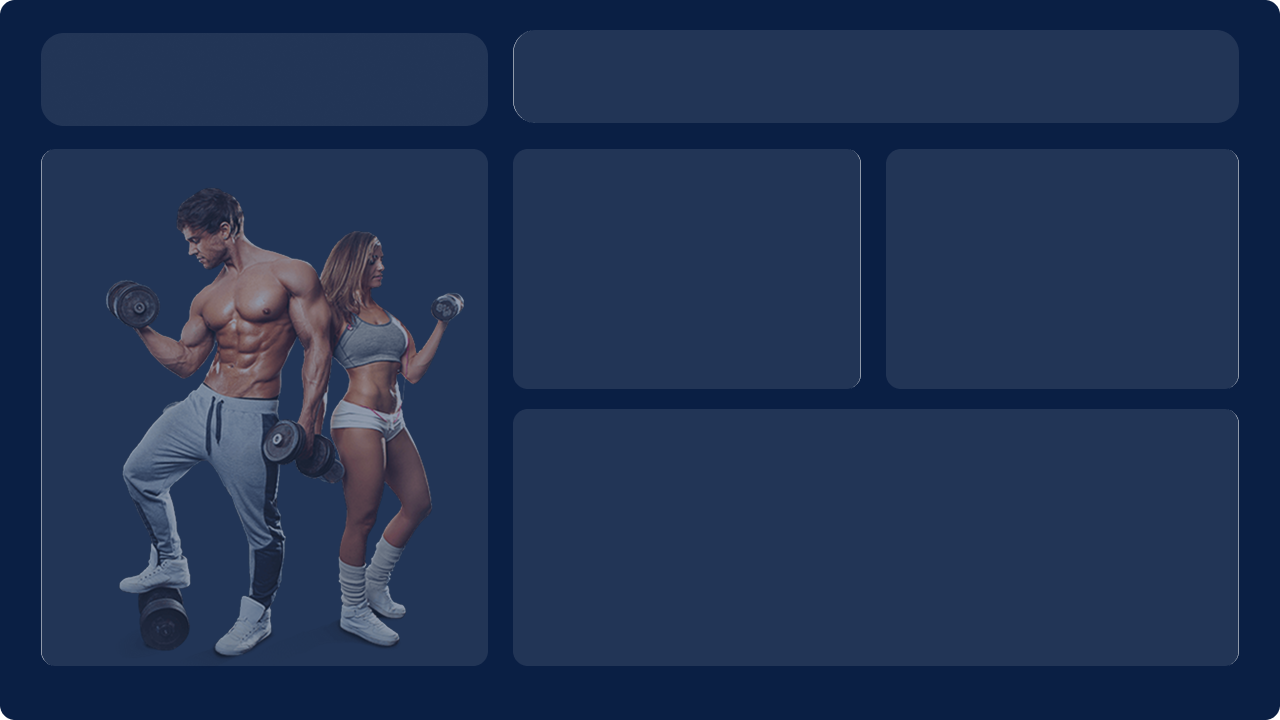

Layout of this report page (visuals, bound fields, positions):
{"tool":"powerbi","page":{"name":"Members","canvas":[1280,720],"ordinal":3},"visuals":[{"type":"shape","box":[51.7,40,41.7,38.3],"z":0},{"type":"shape","box":[90,40,93.3,38.3],"z":1000},{"type":"cardVisual","fields":{"Data":["_Measures.Members_Count"]},"box":[35.9,546.5,139.8,80],"z":2000},{"type":"cardVisual","fields":{"Data":["Count(Users.Trainer Name)"]},"box":[140.5,546.5,139.8,80],"z":3000},{"type":"cardVisual","fields":{"Data":["_Measures.Revenue"]},"box":[245,546.5,139.8,80],"z":4000},{"type":"cardVisual","fields":{"Data":["_Measures.Expenses"]},"box":[349.6,546.1,137.3,79.4],"z":5000},{"type":"shape","box":[53.3,68.3,391.7,38.3],"z":6000},{"type":"image","box":[1158,60,62,28],"z":7000},{"type":"shape","box":[525,38.3,141.7,38.3],"z":8000},{"type":"shape","box":[530,71.7,391.7,38.3],"z":9000},{"type":"pageNavigator","box":[740,48.3,418.3,50],"z":10000},{"type":"tableEx","fields":{"Values":["Users.UserName","Users.Gender","Users.Status","Users.Goal","Users.Membership","_Measures.SVG_BarChart1","Users.Trainer Name"]},"box":[513.3,466.7,720,188.3],"z":11000},{"type":"shape","box":[521.7,411.7,141.7,55],"z":12000},{"type":"advancedSlicerVisual","fields":{"Values":["Users.Gender"]},"box":[1035,411.7,185,55],"z":13000},{"type":"clusteredColumnChart","fields":{"Category":["Users.Age_category"],"Y":["_Measures.Members_Count"],"Series":["Users.Membership"]},"box":[513.3,178.3,348.3,218.3],"z":14000},{"type":"shape","box":[521.7,146.7,193.3,38.3],"z":15000},{"type":"donutChart","fields":{"Y":["_Measures.Members_Count"],"Category":["Users.Gender"]},"box":[885,178.3,348.3,218.3],"z":16000},{"type":"shape","box":[896.7,148.3,193.3,38.3],"z":17000},{"type":"advancedSlicerVisual","fields":{"Values":["ColorCodes.Icon"]},"box":[36.7,155,60,221.7],"z":18000},{"type":"shape","box":[345,146.7,141.7,38.3],"z":19000},{"type":"shape","box":[403.3,168.3,93.3,38.3],"z":20000}]}

Visuals, with their boxes in screenshot pixels (x1, y1, x2, y2), scaled from the page's 1280x720 canvas onto the 1280x720 screenshot:
shape: 52,40,93,78
shape: 90,40,183,78
cardVisual - _Measures.Members_Count: 36,546,176,626
cardVisual - Count(Users.Trainer Name): 140,546,280,626
cardVisual - _Measures.Revenue: 245,546,385,626
cardVisual - _Measures.Expenses: 350,546,487,626
shape: 53,68,445,107
image: 1158,60,1220,88
shape: 525,38,667,77
shape: 530,72,922,110
pageNavigator: 740,48,1158,98
tableEx - Users.UserName x Users.Gender: 513,467,1233,655
shape: 522,412,663,467
advancedSlicerVisual - Users.Gender: 1035,412,1220,467
clusteredColumnChart - Users.Age_category x _Measures.Members_Count: 513,178,862,397
shape: 522,147,715,185
donutChart - _Measures.Members_Count x Users.Gender: 885,178,1233,397
shape: 897,148,1090,187
advancedSlicerVisual - ColorCodes.Icon: 37,155,97,377
shape: 345,147,487,185
shape: 403,168,497,207
